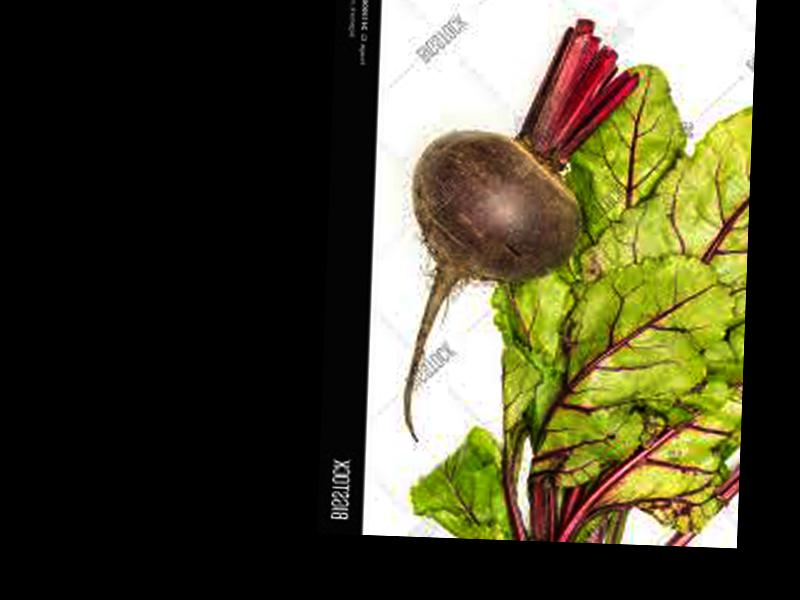Beet: (402, 12, 640, 449)
